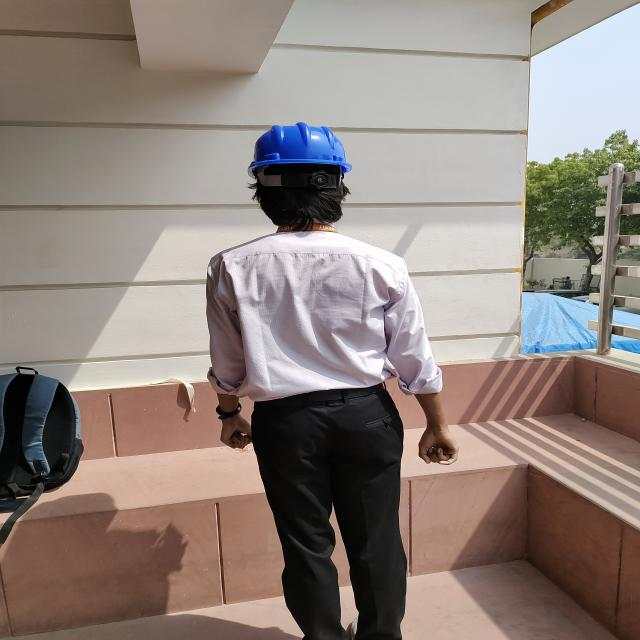no jacket: (202, 122, 424, 640)
